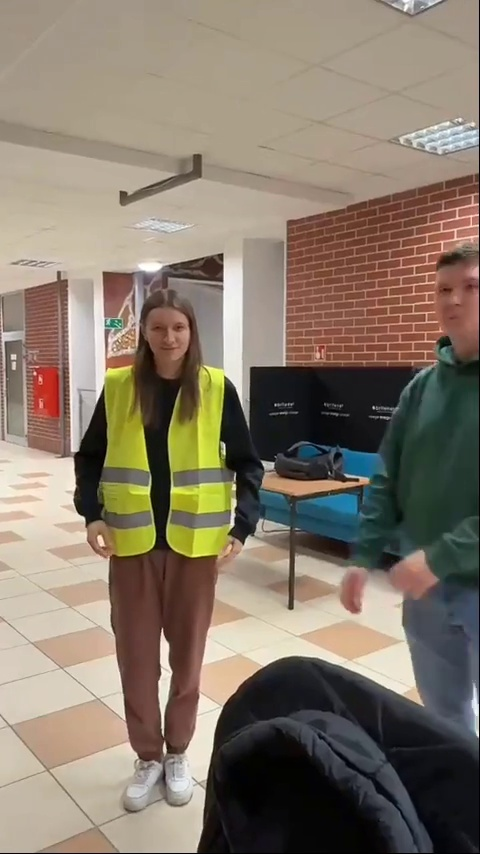no vest: (356, 243, 480, 744)
vest: (75, 295, 269, 818)
